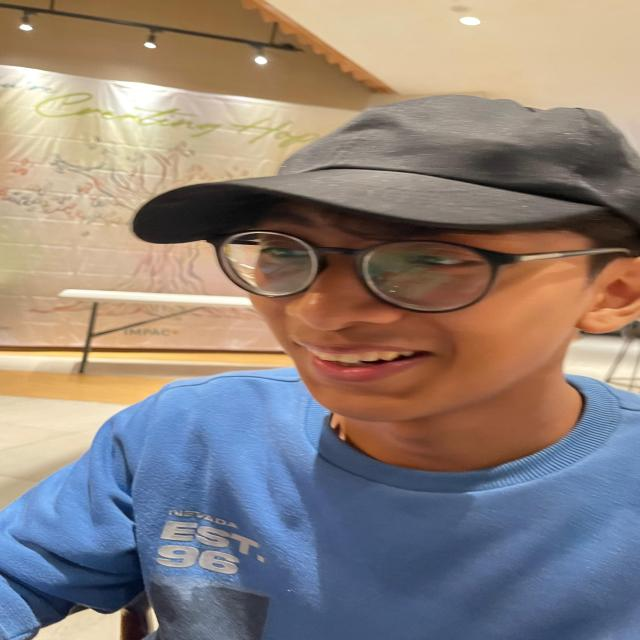3_gorra: (113, 92, 640, 428)
